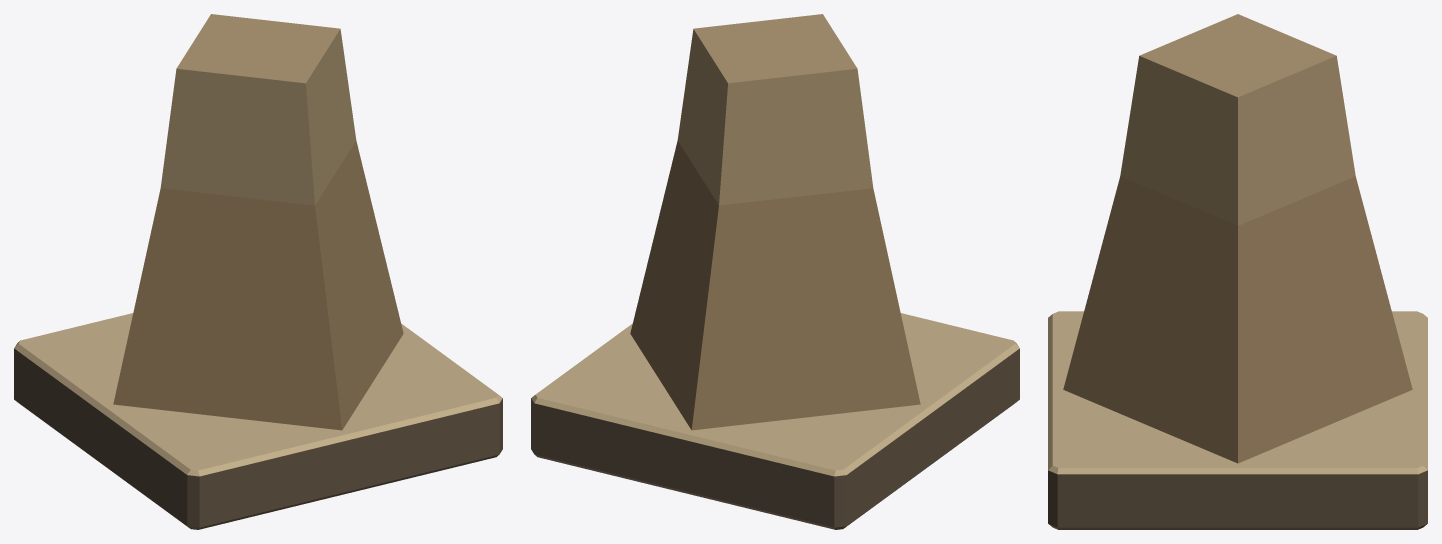
The model's file is obelisk-broken.glb.
3 views of the same model, side by side, from view 1: azimuth 30°, elevation 25°; view 2: azimuth 150°, elevation 25°; view 3: azimuth 270°, elevation 25° (orthographic). The views are drawn at different scales.
Parts seen in each view (by area): view 1: obelisk-broken__body; view 2: obelisk-broken__body; view 3: obelisk-broken__body.
Boxes of the visible parts, <box> form: obelisk-broken__body: <box>14,14,502,529</box>; obelisk-broken__body: <box>531,14,1019,529</box>; obelisk-broken__body: <box>1048,14,1427,529</box>.
Size of the model in its own units: 1 by 1.15 by 1.
